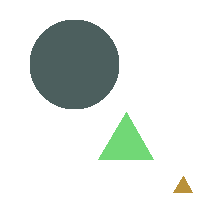circle: (30, 20, 118, 108)
triangle: (98, 112, 153, 159), (173, 176, 192, 192)
